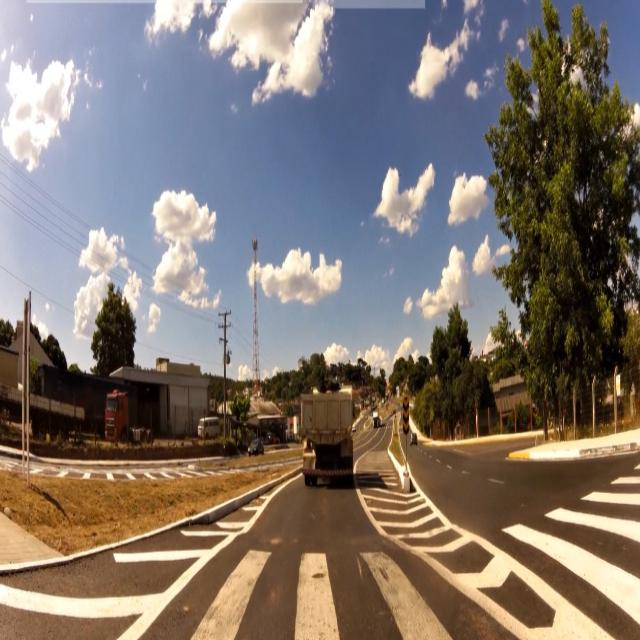MP: (402, 394, 410, 435)
